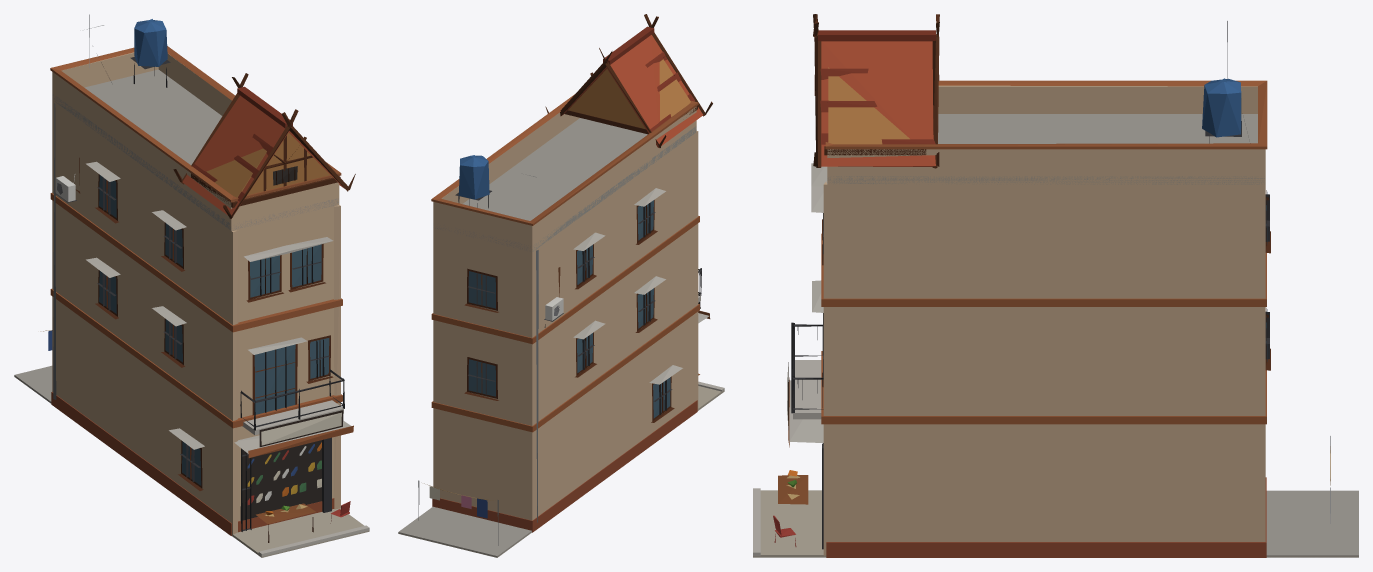
File: bay2_left.glb
The picture shows the model from 3 angles, left to right: view 1: azimuth 30°, elevation 25°; view 2: azimuth 150°, elevation 25°; view 3: azimuth 270°, elevation 25°; orthographic projection. The views are drawn at different scales.
Parts seen in each view (by area): view 1: body, windows; view 2: body, windows; view 3: body.
Part boxes in pixels (left/top/right/bottom): body: left=14, top=14, right=369, bottom=557; windows: left=99, top=166, right=329, bottom=520; body: left=398, top=14, right=724, bottom=557; windows: left=468, top=200, right=670, bottom=418; body: left=753, top=14, right=1358, bottom=557.
Bounding box in the file's own units: 4.95 × 14.73 × 15.9.
